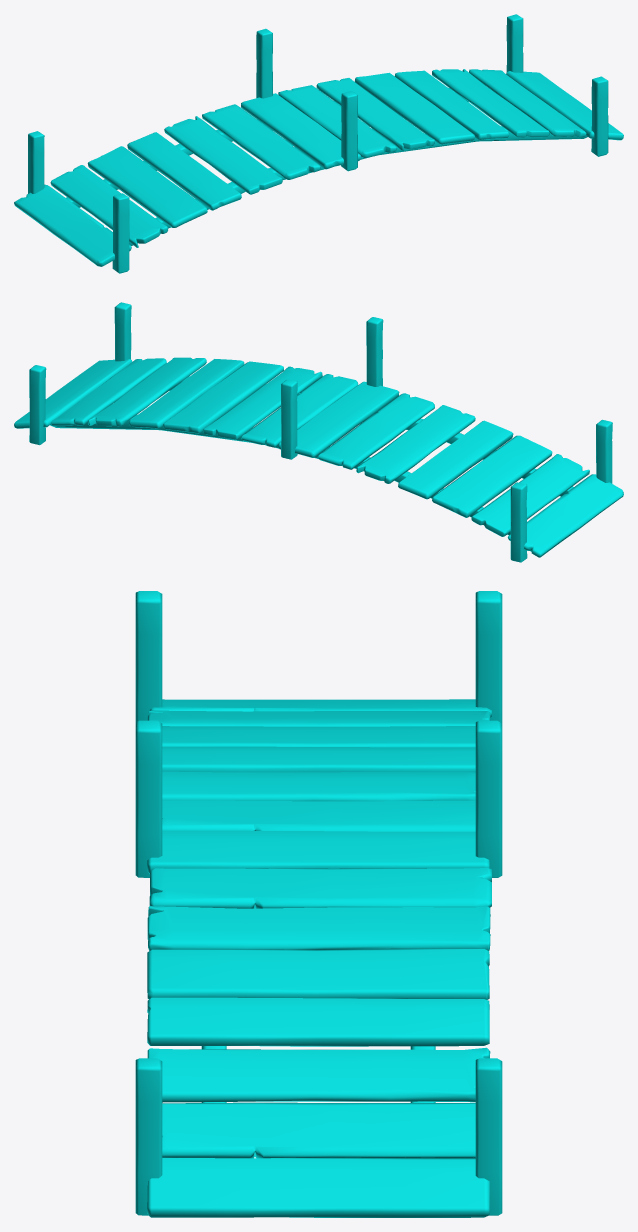
File: Bridge.fbx
3 renders of one model, top to bottom at view 1: azimuth 30°, elevation 25°; view 2: azimuth 150°, elevation 25°; view 3: azimuth 270°, elevation 25°, orthographic. The views are drawn at different scales.
Parts seen in each view (by area): view 1: Plank3_L6, Plank1_L4, Plank2_L3, Plank1_L3, Plank3_L5, Plank3_L4, Plank3_L3, Plank2_L4, Plank2_L2, Plank2_L1, Plank1_L2, Plank3_L2 (+9 smaller); view 2: Plank3_L6, Plank1_L4, Plank2_L3, Plank1_L3, Plank3_L5, Plank3_L4, Plank3_L3, Plank2_L4, Plank2_L2, Plank2_L1, Plank1_L2, Plank3_L2 (+9 smaller); view 3: Plank3_L1, Plank1_L1, Plank3_L3, Plank2_L1, Plank3_L2, Plank2_L2, Plank1_L2, Plank3_L4, Plank1_L3, Plank2_L3, Plank3_L5, Plank3_L6 (+8 smaller).
Part boxes in pixels (x1=…): Plank3_L6: x1=87, y1=146, x2=207, y2=227; Plank1_L4: x1=14, y1=184, x2=131, y2=266; Plank2_L3: x1=164, y1=116, x2=282, y2=194; Plank1_L3: x1=202, y1=104, x2=320, y2=179; Plank3_L5: x1=127, y1=132, x2=241, y2=210; Plank3_L4: x1=241, y1=93, x2=360, y2=169; Plank3_L3: x1=354, y1=72, x2=474, y2=144; Plank2_L4: x1=50, y1=165, x2=167, y2=247; Plank2_L2: x1=316, y1=78, x2=435, y2=151; Plank2_L1: x1=432, y1=69, x2=549, y2=137; Plank1_L2: x1=278, y1=85, x2=396, y2=158; Plank3_L2: x1=394, y1=70, x2=509, y2=140; Plank3_L6: x1=432, y1=435, x2=552, y2=517; Plank1_L4: x1=507, y1=474, x2=623, y2=557; Plank2_L3: x1=356, y1=405, x2=475, y2=483; Plank1_L3: x1=317, y1=393, x2=434, y2=469; Plank3_L5: x1=398, y1=420, x2=513, y2=499; Plank3_L4: x1=278, y1=381, x2=399, y2=457; Plank3_L3: x1=163, y1=361, x2=283, y2=433; Plank2_L4: x1=471, y1=454, x2=589, y2=536; Plank2_L2: x1=203, y1=366, x2=322, y2=439; Plank2_L1: x1=88, y1=357, x2=206, y2=426; Plank1_L2: x1=241, y1=374, x2=358, y2=447; Plank3_L2: x1=129, y1=359, x2=244, y2=428; Plank3_L1: x1=147, y1=1157, x2=489, y2=1217; Plank1_L1: x1=162, y1=1102, x2=475, y2=1158; Plank3_L3: x1=147, y1=948, x2=489, y2=999; Plank2_L1: x1=147, y1=1047, x2=490, y2=1102; Plank3_L2: x1=147, y1=997, x2=489, y2=1046; Plank2_L2: x1=147, y1=906, x2=490, y2=950; Plank1_L2: x1=149, y1=868, x2=491, y2=908; Plank3_L4: x1=147, y1=830, x2=489, y2=873; Plank1_L3: x1=162, y1=800, x2=475, y2=831; Plank2_L3: x1=162, y1=771, x2=475, y2=801; Plank3_L5: x1=162, y1=746, x2=475, y2=772; Plank3_L6: x1=162, y1=726, x2=475, y2=747.
Bounding box in the file's own units: 2.58 × 0.5715 × 0.781.
